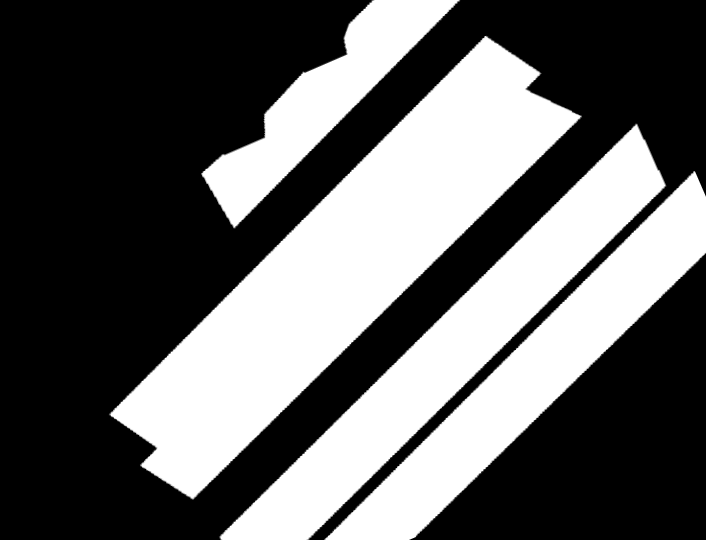parkingspot: (110, 36, 582, 499), (220, 124, 666, 540), (325, 171, 706, 540), (201, 0, 460, 228)
